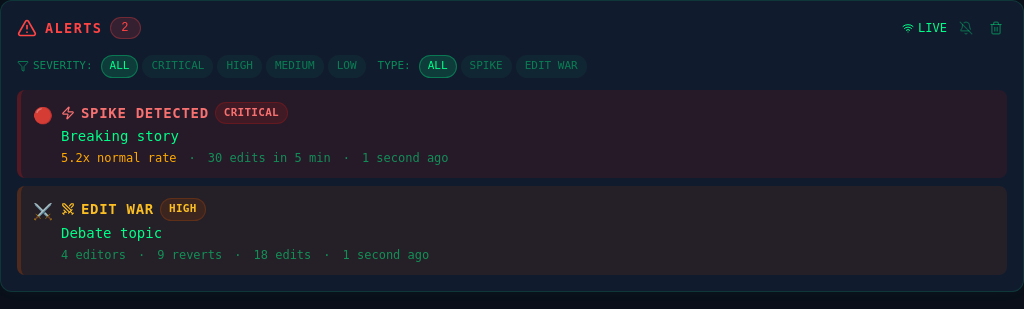
AlertsPanel › filters by type
Expected: the link "Breaking story" is shown, x1=61 y1=128 x2=179 y2=144
Click the button "EDIT WAR" at (551, 66), box x1=516 y1=55 x2=587 y2=78
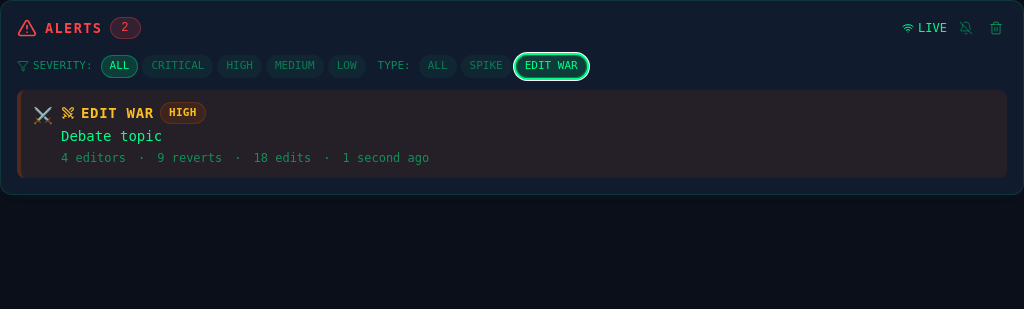
Expected: the link "Debate topic" is shown, x1=61 y1=128 x2=162 y2=144
Now the link "Breaking story" is gone
